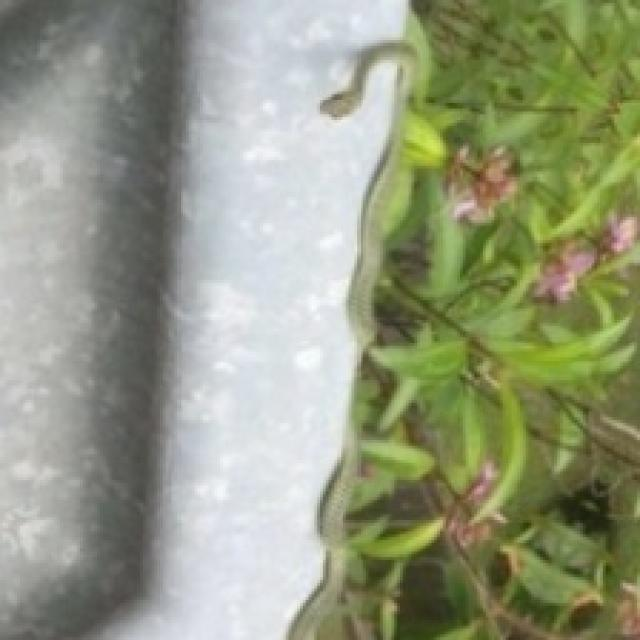paradise tree snake: (291, 0, 637, 637), (320, 17, 446, 351), (289, 420, 377, 637)
